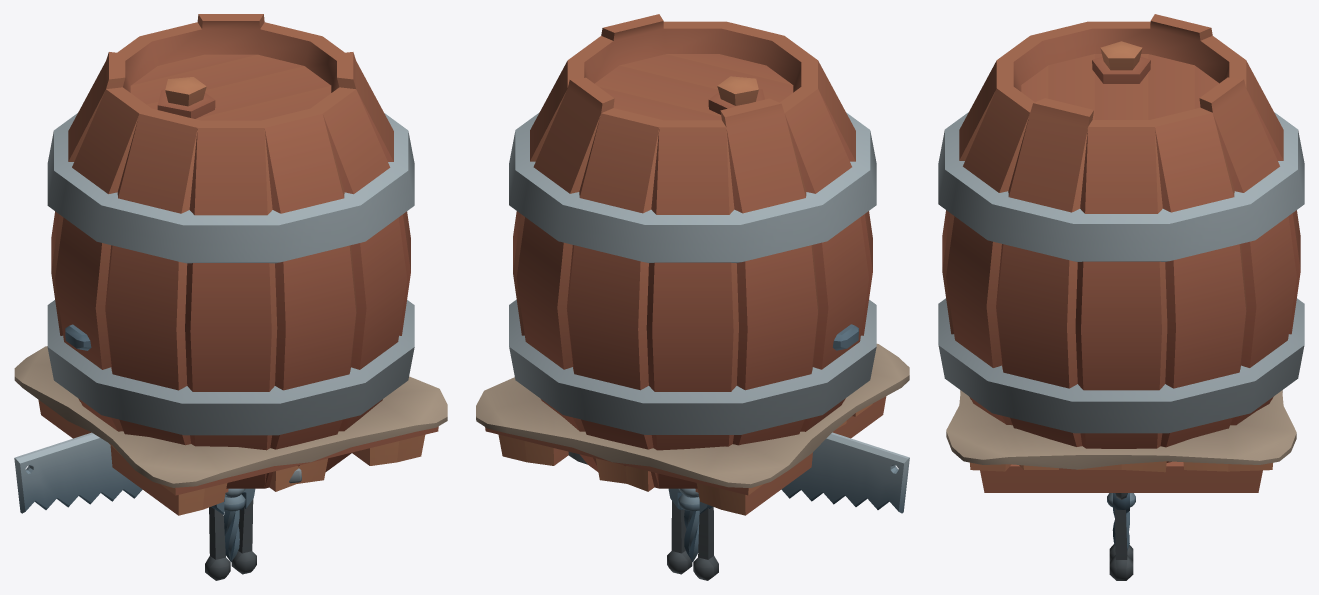
Rendered from holding-factory.glb.
3 views of the same model, side by side, from view 1: azimuth 30°, elevation 25°; view 2: azimuth 150°, elevation 25°; view 3: azimuth 270°, elevation 25° (orthographic).
Visible parts, largest first — view 1: barrel_large, Pallet_Wood_Covered_B, saw, tongs_part, handdrill, tongs; view 2: barrel_large, Pallet_Wood_Covered_B, saw, tongs_part, handdrill, tongs; view 3: barrel_large, Pallet_Wood_Covered_B, tongs.
Part boxes in pixels (x1,y1,x2,y2): barrel_large: (47, 14, 414, 488); Pallet_Wood_Covered_B: (14, 346, 447, 515); saw: (14, 432, 228, 513); tongs_part: (205, 507, 230, 580); handdrill: (223, 488, 245, 561); tongs: (231, 499, 256, 574); barrel_large: (509, 14, 876, 488); Pallet_Wood_Covered_B: (476, 343, 909, 515); saw: (695, 432, 909, 513); tongs_part: (693, 506, 718, 580); handdrill: (678, 488, 699, 561); tongs: (667, 501, 692, 574); barrel_large: (938, 14, 1304, 462); Pallet_Wood_Covered_B: (946, 390, 1296, 492); tongs: (1109, 508, 1133, 580).
Bounding box in the file's own units: 2.12 × 2.75 × 1.8.
Materials: 4 (4 with a texture image).
